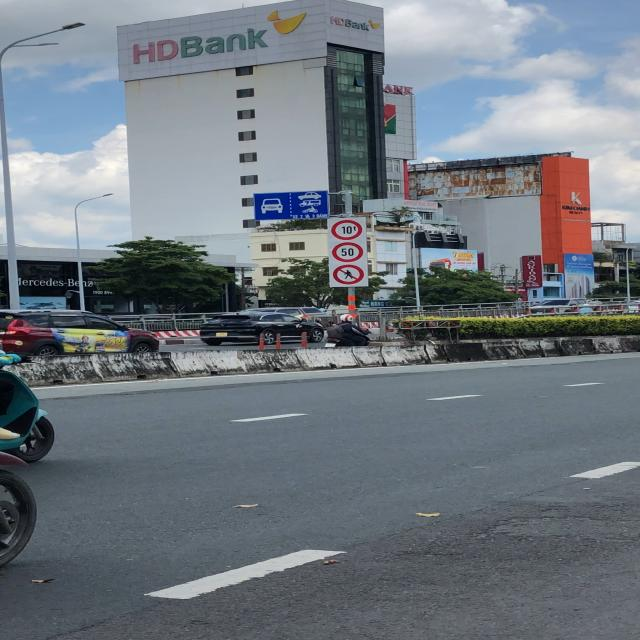Bien bao cam nguoi di bo: (332, 262, 369, 286)
Bien bao toc do toi da cho phep: (328, 241, 367, 263)
